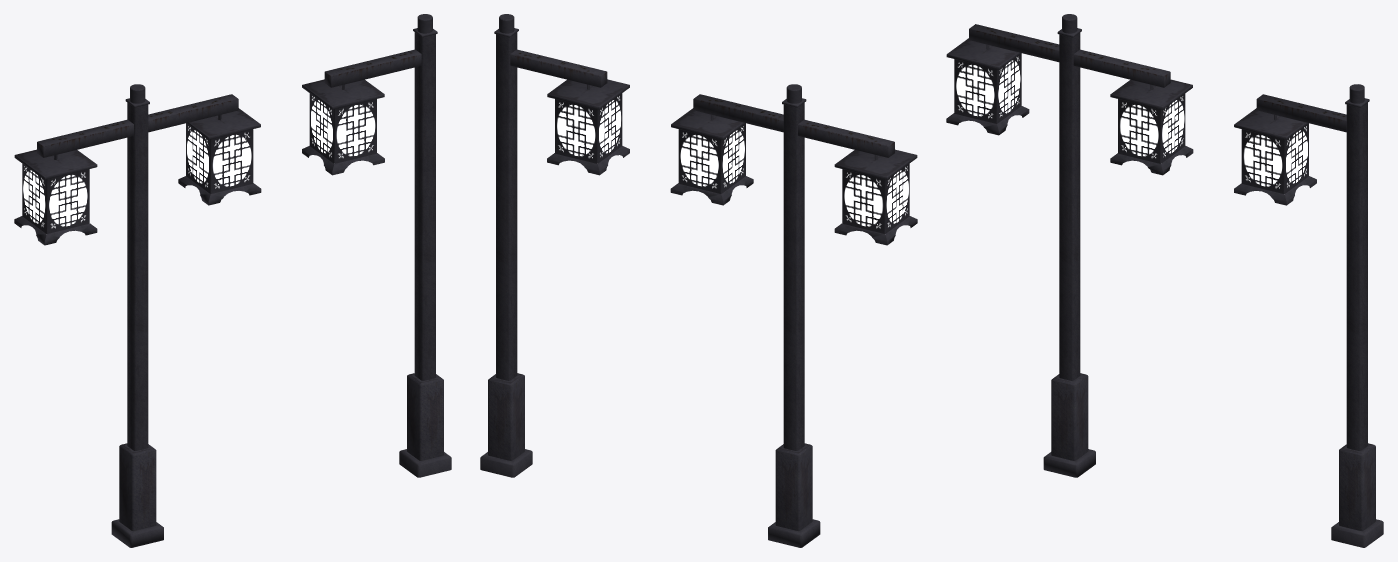
The model's file is cn_lamp.glb.
3 views of the same model, side by side, from view 1: azimuth 30°, elevation 25°; view 2: azimuth 150°, elevation 25°; view 3: azimuth 330°, elevation 25° (orthographic).
Visible parts, largest first — view 1: Object_3, Object_2; view 2: Object_3, Object_2; view 3: Object_3, Object_2.
Part boxes in pixels (x1,y1,x2,y2): Object_3: (14, 84, 261, 547); Object_2: (302, 14, 451, 477); Object_3: (670, 84, 917, 547); Object_2: (480, 14, 629, 477); Object_3: (946, 14, 1193, 477); Object_2: (1234, 84, 1383, 547).
Bounding box in the file's own units: 2.87 × 2.99 × 0.3657.
2 materials, 2 textured.
